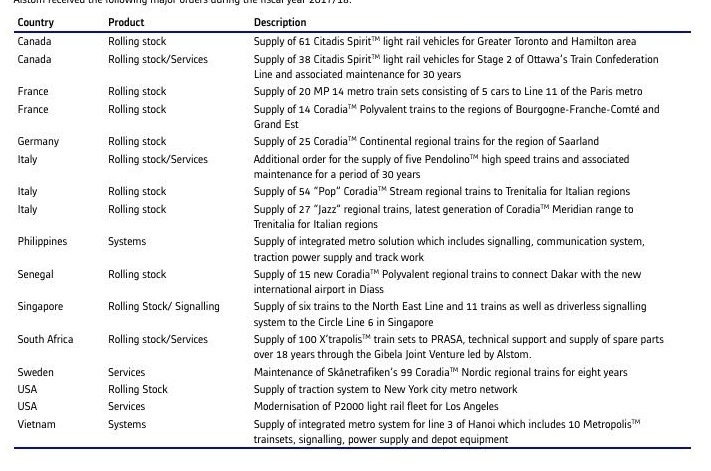table: (0, 0, 711, 471)
